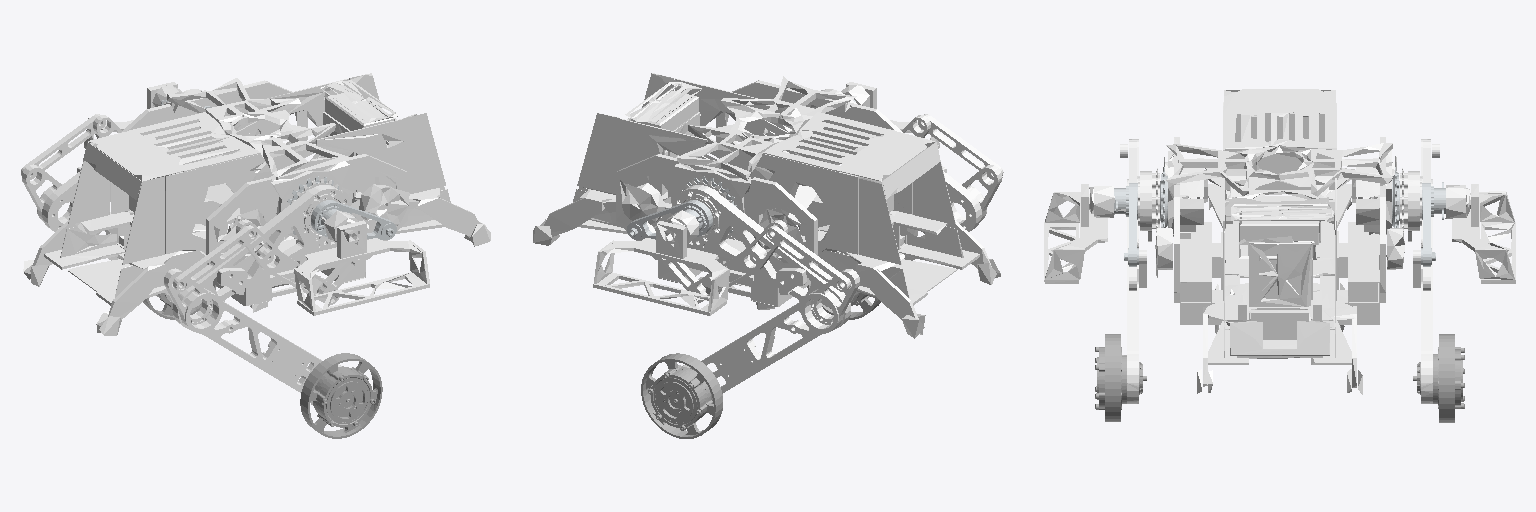
robot.urdf — at_wheel_leg:
<?xml version="1.0" encoding="utf-8"?>
<!-- This URDF was automatically created by SolidWorks to URDF Exporter! Originally created by Stephen Brawner (brawner@gmail.com) 
     Commit Version: 1.6.0-4-g7f85cfe  Build Version: 1.6.7995.38578
     For more information, please see http://wiki.ros.org/sw_urdf_exporter -->
<robot
  name="at_wheel_leg">
  <link
    name="base_link">
    <inertial>
      <origin
        xyz="0.0166017212610828 -0.00156965062075262 -0.0947729612931393"
        rpy="0 0 0" />
      <mass
        value="10.51259490" />
      <inertia
        ixx="0.14496049"
        ixy="0"
        ixz="-0.00068753"
        iyy="0.14966292"
        iyz="0.00038021"
        izz="0.24991099" />
    </inertial>
    <visual>
      <origin
        xyz="0 0 0"
        rpy="0 0 0" />
      <geometry>
        <mesh
          filename="base_link.STL" />
      </geometry>
      <material
        name="">
        <color
          rgba="1 1 1 0.25" />
      </material>
    </visual>
    <collision>
      <origin
        xyz="0 0 0"
        rpy="0 0 0" />
      <geometry>
        <mesh
          filename="base_link.STL" />
      </geometry>
    </collision>
  </link>
  <link
    name="left_front1_link">
    <inertial>
      <origin
        xyz="0.0149970599113191 -0.0168863626491255 3.71072167160147E-08"
        rpy="0 0 0" />
      <mass
        value="0.26714" />
      <inertia
        ixx="0.00016801"
        ixy="-0.0000361"
        ixz="0"
        iyy="0.00023307"
        iyz="0"
        izz="0.00028002" />
    </inertial>
    <visual>
      <origin
        xyz="0 0 0"
        rpy="0 0 0" />
      <geometry>
        <mesh
          filename="left_front1_link.STL" />
      </geometry>
      <material
        name="">
        <color
          rgba="0.898039215686275 0.917647058823529 0.929411764705882 1" />
      </material>
    </visual>
    <collision>
      <origin
        xyz="0 0 0"
        rpy="0 0 0" />
      <geometry>
        <mesh
          filename="left_front1_link.STL" />
      </geometry>
    </collision>
  </link>
  <joint
    name="base_link_left_front1_link_joint"
    type="revolute">
    <origin
      xyz="0 0.185 -0.053"
      rpy="0 0.39893 0" />
    <parent
      link="base_link" />
    <child
      link="left_front1_link" />
    <axis
      xyz="0 1 0" />
    <limit
      lower="-3.14"
      upper="3.14"
      effort="40"
      velocity="30" />
  </joint>
  <link
    name="left_front2_link">
    <inertial>
      <origin
        xyz="-0.042567432117982 -0.00112033236667039 -0.0367705891204183"
        rpy="0 0 0" />
      <mass
        value="0.0214872432936065" />
      <inertia
        ixx="0.00001477"
        ixy="0"
        ixz="-0.00001592"
        iyy="0.00003386"
        iyz="0"
        izz="0.00001945" />
    </inertial>
    <visual>
      <origin
        xyz="0 0 0"
        rpy="0 0 0" />
      <geometry>
        <mesh
          filename="left_front2_link.STL" />
      </geometry>
      <material
        name="">
        <color
          rgba="1 1 1 1" />
      </material>
    </visual>
    <collision>
      <origin
        xyz="0 0 0"
        rpy="0 0 0" />
      <geometry>
        <mesh
          filename="left_front2_link.STL" />
      </geometry>
    </collision>
  </link>
  <joint
    name="left_front1_link_left_front2_link_joint"
    type="revolute">
    <origin
      xyz="0.0945 -0.01025 0"
      rpy="0 -0.39893 0" />
    <parent
      link="left_front1_link" />
    <child
      link="left_front2_link" />
    <axis
      xyz="0 -1 0" />
    <limit
      lower="-3.14"
      upper="3.14"
      effort="0"
      velocity="20" />
  </joint>
  <link
    name="left_front3_link">
    <inertial>
      <origin
        xyz="-0.0702304161203611 2.08166817117217E-15 0.0609499686138"
        rpy="0 0 0" />
      <mass
        value="0.037256436794627" />
      <inertia
        ixx="0.00005792"
        ixy="0"
        ixz="0.00005605"
        iyy="0.00012181"
        iyz="0"
        izz="0.00006451" />
    </inertial>
    <visual>
      <origin
        xyz="0 0 0"
        rpy="0 0 0" />
      <geometry>
        <mesh
          filename="left_front3_link.STL" />
      </geometry>
      <material
        name="">
        <color
          rgba="1 1 1 1" />
      </material>
    </visual>
    <collision>
      <origin
        xyz="0 0 0"
        rpy="0 0 0" />
      <geometry>
        <mesh
          filename="left_front3_link.STL" />
      </geometry>
    </collision>
  </link>
  <joint
    name="left_front2_link_left_front3_link_joint"
    type="revolute">
    <origin
      xyz="-0.085135 0.01075 -0.073541"
      rpy="0 0 0" />
    <parent
      link="left_front2_link" />
    <child
      link="left_front3_link" />
    <axis
      xyz="0 -1 0" />
    <limit
      lower="-3.14"
      upper="3.14"
      effort="0"
      velocity="20" />
  </joint>
  <link
    name="left_front4_link">
    <inertial>
      <origin
        xyz="-0.0523910357845979 0.00113189437648306 -0.0242948913798561"
        rpy="0 0 0" />
      <mass
        value="0.0235907478549685" />
      <inertia
        ixx="0.00000743"
        ixy="0"
        ixz="-0.00001374"
        iyy="0.00003774"
        iyz="0"
        izz="0.00003069" />
    </inertial>
    <visual>
      <origin
        xyz="0 0 0"
        rpy="0 0 0" />
      <geometry>
        <mesh
          filename="left_front4_link.STL" />
      </geometry>
      <material
        name="">
        <color
          rgba="1 1 1 1" />
      </material>
    </visual>
    <collision>
      <origin
        xyz="0 0 0"
        rpy="0 0 0" />
      <geometry>
        <mesh
          filename="left_front4_link.STL" />
      </geometry>
    </collision>
  </link>
  <joint
    name="left_front3_link_left_front4_link_joint"
    type="revolute">
    <origin
      xyz="-0.12606 0.01075 0.12295"
      rpy="0 0 0" />
    <parent
      link="left_front3_link" />
    <child
      link="left_front4_link" />
    <axis
      xyz="0 -1 0" />
    <limit
      lower="-3.14"
      upper="3.14"
      effort="0"
      velocity="20" />
  </joint>
  <link
    name="left_rear1_link">
    <inertial>
      <origin
        xyz="0.0767492017596194 9.47193804834434E-05 -0.0027258467056125"
        rpy="0 0 0" />
      <mass
        value="0.313983977716467" />
      <inertia
        ixx="0.00014511"
        ixy="-0.00002477"
        ixz="0.00002642"
        iyy="0.0023003"
        iyz="0.00000216"
        izz="0.00218452" />
    </inertial>
    <visual>
      <origin
        xyz="0 0 0"
        rpy="0 0 0" />
      <geometry>
        <mesh
          filename="left_rear1_link.STL" />
      </geometry>
      <material
        name="">
        <color
          rgba="1 1 1 1" />
      </material>
    </visual>
    <collision>
      <origin
        xyz="0 0 0"
        rpy="0 0 0" />
      <geometry>
        <mesh
          filename="left_rear1_link.STL" />
      </geometry>
    </collision>
  </link>
  <joint
    name="base_link_left_rear1_link_joint"
    type="revolute">
    <origin
      xyz="0 0.1695 -0.053"
      rpy="-3.1416 0.43421 -3.1416" />
    <parent
      link="base_link" />
    <child
      link="left_rear1_link" />
    <axis
      xyz="0 1 0" />
    <limit
      lower="-3.14"
      upper="3.14"
      effort="40"
      velocity="30" />
  </joint>
  <link
    name="left_rear2_link">
    <inertial>
      <origin
        xyz="0.0958809525984923 0.000314484635483225 -0.0760938020594703"
        rpy="0 0 0" />
      <mass
        value="0.21951866177246" />
      <inertia
        ixx="0.00085962"
        ixy="-0.00000533"
        ixz="0.00094077"
        iyy="0.00204843"
        iyz="0.00000439"
        izz="0.00119648" />
    </inertial>
    <visual>
      <origin
        xyz="0 0 0"
        rpy="0 0 0" />
      <geometry>
        <mesh
          filename="left_rear2_link.STL" />
      </geometry>
      <material
        name="">
        <color
          rgba="1 1 1 1" />
      </material>
    </visual>
    <collision>
      <origin
        xyz="0 0 0"
        rpy="0 0 0" />
      <geometry>
        <mesh
          filename="left_rear2_link.STL" />
      </geometry>
    </collision>
  </link>
  <joint
    name="left_rear1_link_left_rear2_link_joint"
    type="revolute">
    <origin
      xyz="0.21 0.0165 0"
      rpy="-3.1416 -0.43421 3.1416" />
    <parent
      link="left_rear1_link" />
    <child
      link="left_rear2_link" />
    <axis
      xyz="0 1 0" />
    <limit
      lower="-3.14"
      upper="3.14"
      effort="0"
      velocity="20" />
  </joint>
  <link
    name="left_wheel_link">
    <inertial>
      <origin
        xyz="0.000229964593045939 0.00361868872721502 -0.000125006559334034"
        rpy="0 0 0" />
      <mass
        value="0.47" />
      <inertia
        ixx="0.00029889"
        ixy="0.00000079"
        ixz="-0.00000089"
        iyy="0.00039991"
        iyz="-0.00000044"
        izz="0.00029791" />
    </inertial>
    <visual>
      <origin
        xyz="0 0 0"
        rpy="0 0 0" />
      <geometry>
        <mesh
          filename="left_wheel_link.STL" />
      </geometry>
      <material
        name="">
        <color
          rgba="0.752941176470588 0.752941176470588 0.752941176470588 1" />
      </material>
    </visual>
    <collision>
      <origin
        xyz="0 0.013 0"
        rpy="1.5708 0 0" />
      <geometry>
        <cylinder
          radius="0.056"
          length="0.021" />
      </geometry>
    </collision>
  </link>
  <joint
    name="left_rear2_link_left_wheel_link_joint"
    type="continuous">
    <origin
      xyz="0.19483 0.0155 -0.15665"
      rpy="0 0 0" />
    <parent
      link="left_rear2_link" />
    <child
      link="left_wheel_link" />
    <axis
      xyz="0 1 0" />
  </joint>
  <link
    name="right_front1_link">
    <inertial>
      <origin
        xyz="0.0149970486301528 0.0168863626417305 4.10439869591439E-08"
        rpy="0 0 0" />
      <mass
        value="0.26714489" />
      <inertia
        ixx="0.00016838"
        ixy="0.00003610"
        ixz="0.00000002"
        iyy="0.00023307"
        iyz="0"
        izz="0.00027966" />
    </inertial>
    <visual>
      <origin
        xyz="0 0 0"
        rpy="0 0 0" />
      <geometry>
        <mesh
          filename="right_front1_link.STL" />
      </geometry>
      <material
        name="">
        <color
          rgba="0.898039215686275 0.917647058823529 0.929411764705882 1" />
      </material>
    </visual>
    <collision>
      <origin
        xyz="0 0 0"
        rpy="0 0 0" />
      <geometry>
        <mesh
          filename="right_front1_link.STL" />
      </geometry>
    </collision>
  </link>
  <joint
    name="base_link_right_front1_link_joint"
    type="revolute">
    <origin
      xyz="0 -0.185 -0.053"
      rpy="0 0.39893 0" />
    <parent
      link="base_link" />
    <child
      link="right_front1_link" />
    <axis
      xyz="0 1 0" />
    <limit
      lower="-3.14"
      upper="3.14"
      effort="40"
      velocity="30" />
  </joint>
  <link
    name="right_front2_link">
    <inertial>
      <origin
        xyz="-0.0425674228109045 0.00112033236667086 -0.0367705997799142"
        rpy="0 0 0" />
      <mass
        value="0.0214872432936066" />
      <inertia
        ixx="0.00001477"
        ixy="0"
        ixz="-0.00001592"
        iyy="0.00003386"
        iyz="0"
        izz="0.00001945" />
    </inertial>
    <visual>
      <origin
        xyz="0 0 0"
        rpy="0 0 0" />
      <geometry>
        <mesh
          filename="right_front2_link.STL" />
      </geometry>
      <material
        name="">
        <color
          rgba="1 1 1 1" />
      </material>
    </visual>
    <collision>
      <origin
        xyz="0 0 0"
        rpy="0 0 0" />
      <geometry>
        <mesh
          filename="right_front2_link.STL" />
      </geometry>
    </collision>
  </link>
  <joint
    name="right_front1_link_right_front2_link_joint"
    type="revolute">
    <origin
      xyz="0.0945 0.01025 0"
      rpy="0 -0.39893 0" />
    <parent
      link="right_front1_link" />
    <child
      link="right_front2_link" />
    <axis
      xyz="0 1 0" />
    <limit
      lower="-3.14"
      upper="3.14"
      effort="0"
      velocity="20" />
  </joint>
  <link
    name="right_front3_link">
    <inertial>
      <origin
        xyz="-0.0702304503527541 2.77555756156289E-17 0.0609499283259885"
        rpy="0 0 0" />
      <mass
        value="0.037256436794627" />
      <inertia
        ixx="0.00005792"
        ixy="0"
        ixz=" 0.00005605"
        iyy="0.00012181"
        iyz="0"
        izz="0.00006451" />
    </inertial>
    <visual>
      <origin
        xyz="0 0 0"
        rpy="0 0 0" />
      <geometry>
        <mesh
          filename="right_front3_link.STL" />
      </geometry>
      <material
        name="">
        <color
          rgba="1 1 1 1" />
      </material>
    </visual>
    <collision>
      <origin
        xyz="0 0 0"
        rpy="0 0 0" />
      <geometry>
        <mesh
          filename="right_front3_link.STL" />
      </geometry>
    </collision>
  </link>
  <joint
    name="right_front2_link_right_front3_link_joint"
    type="revolute">
    <origin
      xyz="-0.085135 -0.01075 -0.073541"
      rpy="0 0 0" />
    <parent
      link="right_front2_link" />
    <child
      link="right_front3_link" />
    <axis
      xyz="0 -1 0" />
    <limit
      lower="-3.14"
      upper="3.14"
      effort="0"
      velocity="20" />
  </joint>
  <link
    name="right_front4_link">
    <inertial>
      <origin
        xyz="-0.0523910378806442 -0.00113189437648251 -0.0242948954562969"
        rpy="0 0 0" />
      <mass
        value="0.0235907478549685" />
      <inertia
        ixx="0.00000743"
        ixy="0"
        ixz="-0.00001374"
        iyy="0.00003774"
        iyz="0"
        izz="0.00003069" />
    </inertial>
    <visual>
      <origin
        xyz="0 0 0"
        rpy="0 0 0" />
      <geometry>
        <mesh
          filename="right_front4_link.STL" />
      </geometry>
      <material
        name="">
        <color
          rgba="1 1 1 1" />
      </material>
    </visual>
    <collision>
      <origin
        xyz="0 0 0"
        rpy="0 0 0" />
      <geometry>
        <mesh
          filename="right_front4_link.STL" />
      </geometry>
    </collision>
  </link>
  <joint
    name="right_front3_link_right_front4_link_joint"
    type="revolute">
    <origin
      xyz="-0.12606 -0.01075 0.12295"
      rpy="0 0 0" />
    <parent
      link="right_front3_link" />
    <child
      link="right_front4_link" />
    <axis
      xyz="0 -1 0" />
    <limit
      lower="-3.14"
      upper="3.14"
      effort="0"
      velocity="20" />
  </joint>
  <link
    name="right_rear1_link">
    <inertial>
      <origin
        xyz="0.0767492004895694 -9.47170311066392E-05 -0.00272584678141602"
        rpy="0 0 0" />
      <mass
        value="0.313983977716467" />
      <inertia
        ixx="0.00014511"
        ixy="0.00002477"
        ixz="0.00002642"
        iyy="0.00230030"
        iyz="-0.00000216"
        izz="0.00218452" />
    </inertial>
    <visual>
      <origin
        xyz="0 0 0"
        rpy="0 0 0" />
      <geometry>
        <mesh
          filename="right_rear1_link.STL" />
      </geometry>
      <material
        name="">
        <color
          rgba="1 1 1 1" />
      </material>
    </visual>
    <collision>
      <origin
        xyz="0 0 0"
        rpy="0 0 0" />
      <geometry>
        <mesh
          filename="right_rear1_link.STL" />
      </geometry>
    </collision>
  </link>
  <joint
    name="base_link_right_rear1_link_joint"
    type="revolute">
    <origin
      xyz="0 -0.1695 -0.053"
      rpy="-3.1416 0.43421 -3.1416" />
    <parent
      link="base_link" />
    <child
      link="right_rear1_link" />
    <axis
      xyz="0 1 0" />
    <limit
      lower="-3.14"
      upper="3.14"
      effort="40"
      velocity="30" />
  </joint>
  <link
    name="right_rear2_link">
    <inertial>
      <origin
        xyz="0.09635311825158 -0.000154523405650503 -0.0764867143627533"
        rpy="0 0 0" />
      <mass
        value="0.221615349787061" />
      <inertia
        ixx="0.00086281"
        ixy="0.00000277"
        ixz="0.00094408"
        iyy="0.00205592"
        iyz="-0.00000231"
        izz="0.00120077" />
    </inertial>
    <visual>
      <origin
        xyz="0 0 0"
        rpy="0 0 0" />
      <geometry>
        <mesh
          filename="right_rear2_link.STL" />
      </geometry>
      <material
        name="">
        <color
          rgba="1 1 1 1" />
      </material>
    </visual>
    <collision>
      <origin
        xyz="0 0 0"
        rpy="0 0 0" />
      <geometry>
        <mesh
          filename="right_rear2_link.STL" />
      </geometry>
    </collision>
  </link>
  <joint
    name="right_rear1_link_right_rear2_link_joint"
    type="revolute">
    <origin
      xyz="0.210000001339564 -0.0165000000000001 0"
      rpy="-3.14159265358979 -0.434206638096008 3.14159265358979" />
    <parent
      link="right_rear1_link" />
    <child
      link="right_rear2_link" />
    <axis
      xyz="0 -1 0" />
    <limit
      lower="-3.14"
      upper="3.14"
      effort="0"
      velocity="20" />
  </joint>
  <link
    name="right_wheel_link">
    <inertial>
      <origin
        xyz="0.000216811178018085 -0.00361868874060106 -0.000146633751460845"
        rpy="0 0 0" />
      <mass
        value="0.47" />
      <inertia
        ixx="0.00029884"
        ixy="-0.00000075"
        ixz="-0.00000091"
        iyy="0.00039991"
        iyz="0.00000050"
        izz="0.00029796" />
    </inertial>
    <visual>
      <origin
        xyz="0 0 0"
        rpy="0 0 0" />
      <geometry>
        <mesh
          filename="right_wheel_link.STL" />
      </geometry>
      <material
        name="">
        <color
          rgba="0.752941176470588 0.752941176470588 0.752941176470588 1" />
      </material>
    </visual>
    <collision>
      <origin
        xyz="0 -0.013 0"
        rpy="1.5708 0 0" />
      <geometry>
        <cylinder
          radius="0.056"
          length="0.021" />
      </geometry>
    </collision>
  </link>
  <joint
    name="right_rear2_link_right_wheel_link_joint"
    type="continuous">
    <origin
      xyz="0.19483 -0.0155 -0.15665"
      rpy="0 0 0" />
    <parent
      link="right_rear2_link" />
    <child
      link="right_wheel_link" />
    <axis
      xyz="0 1 0" />
  </joint>
</robot>

--- Render facts (derived) ---
The picture shows the robot from 3 angles, left to right: view 1: azimuth 30°, elevation 25°; view 2: azimuth 150°, elevation 25°; view 3: azimuth 270°, elevation 25°; orthographic projection.
Model at_wheel_leg with 15 links and 14 joints (12 revolute, 2 continuous), rooted at base_link, posed every joint at zero.
Visible links, largest first — view 1: base_link, right_rear1_link, right_wheel_link, right_rear2_link, right_front1_link, right_front4_link, right_front3_link, left_front4_link, left_rear1_link, left_rear2_link, right_front2_link; view 2: base_link, left_rear1_link, left_wheel_link, left_rear2_link, left_front1_link, left_front4_link, right_front4_link, left_front3_link, right_rear1_link, right_rear2_link, left_front2_link; view 3: base_link, left_wheel_link, right_wheel_link, right_rear2_link, left_rear2_link, left_front1_link, right_front1_link, left_rear1_link, right_rear1_link, left_front3_link, right_front3_link.
Boxes of the visible links, x1,y1,x2,y2 form: base_link: (23,73,490,335); right_rear1_link: (172,179,349,329); right_wheel_link: (300,353,382,438); right_rear2_link: (164,268,341,404); right_front1_link: (287,176,396,239); right_front4_link: (173,225,257,291); right_front3_link: (236,219,339,304); left_front4_link: (21,114,105,179); left_rear1_link: (42,89,203,231); left_rear2_link: (22,164,201,307); right_front2_link: (317,221,376,298); base_link: (533,73,1000,338); left_rear1_link: (673,179,850,329); left_wheel_link: (641,353,722,438); left_rear2_link: (682,269,859,400); left_front1_link: (627,176,737,239); left_front4_link: (765,225,850,291); right_front4_link: (918,114,1003,179); left_front3_link: (686,220,787,303); right_rear1_link: (821,89,981,231); right_rear2_link: (821,165,1002,307); left_front2_link: (647,221,705,299); base_link: (1044,89,1515,394); left_wheel_link: (1413,334,1464,422); right_wheel_link: (1095,334,1146,421); right_rear2_link: (1127,139,1138,403); left_rear2_link: (1421,139,1432,403); left_front1_link: (1392,167,1445,266); right_front1_link: (1114,167,1167,266); left_rear1_link: (1400,168,1422,241); right_rear1_link: (1137,168,1159,241); left_front3_link: (1423,141,1430,290); right_front3_link: (1129,141,1136,290).
Size in the robot's own frame: 0.5883 by 0.596 by 0.3584 metres.
15 mesh visuals loaded from 15 distinct referenced files (15 binary STL).
